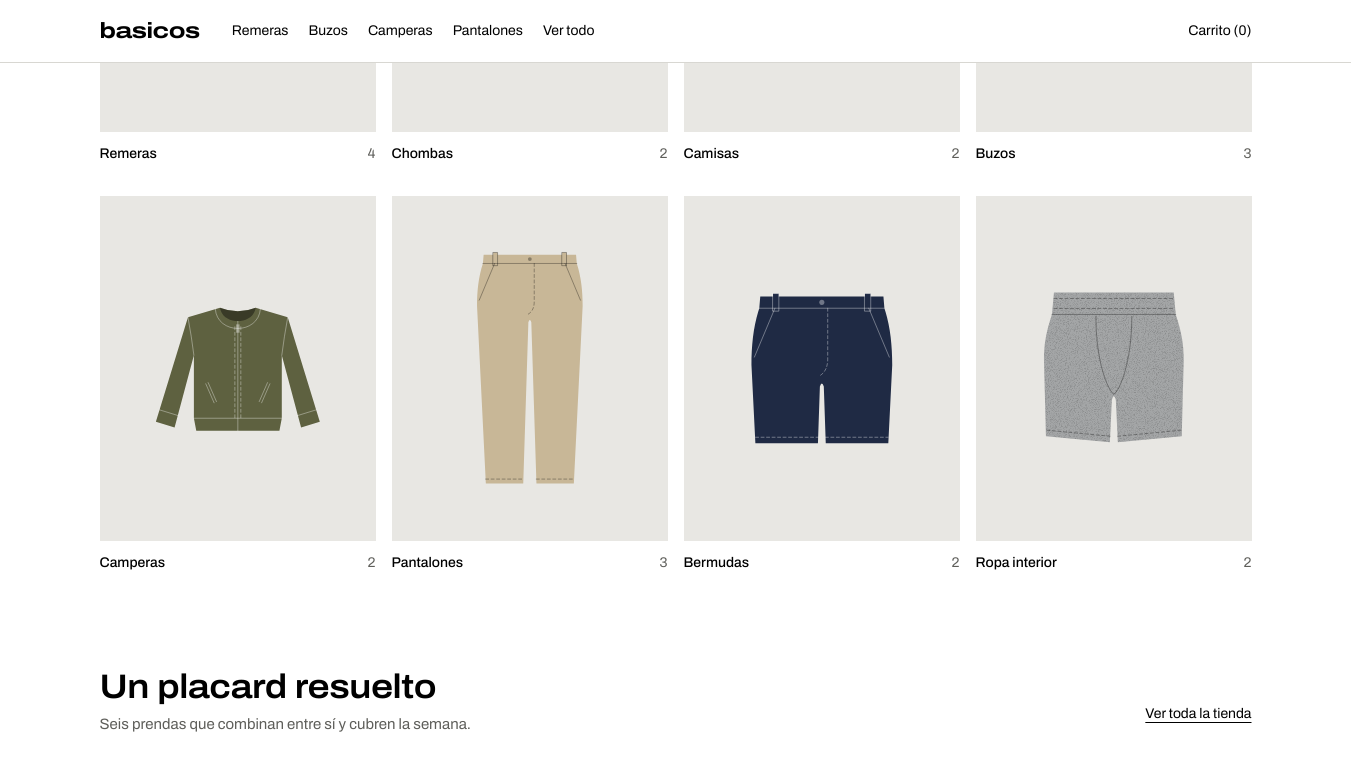
Test: portada › las categorías llevan al catálogo filtrado
(page scrolled)
Click the link "Bermudas 2": (822, 384) [684,196,960,573]
(page scrolled)
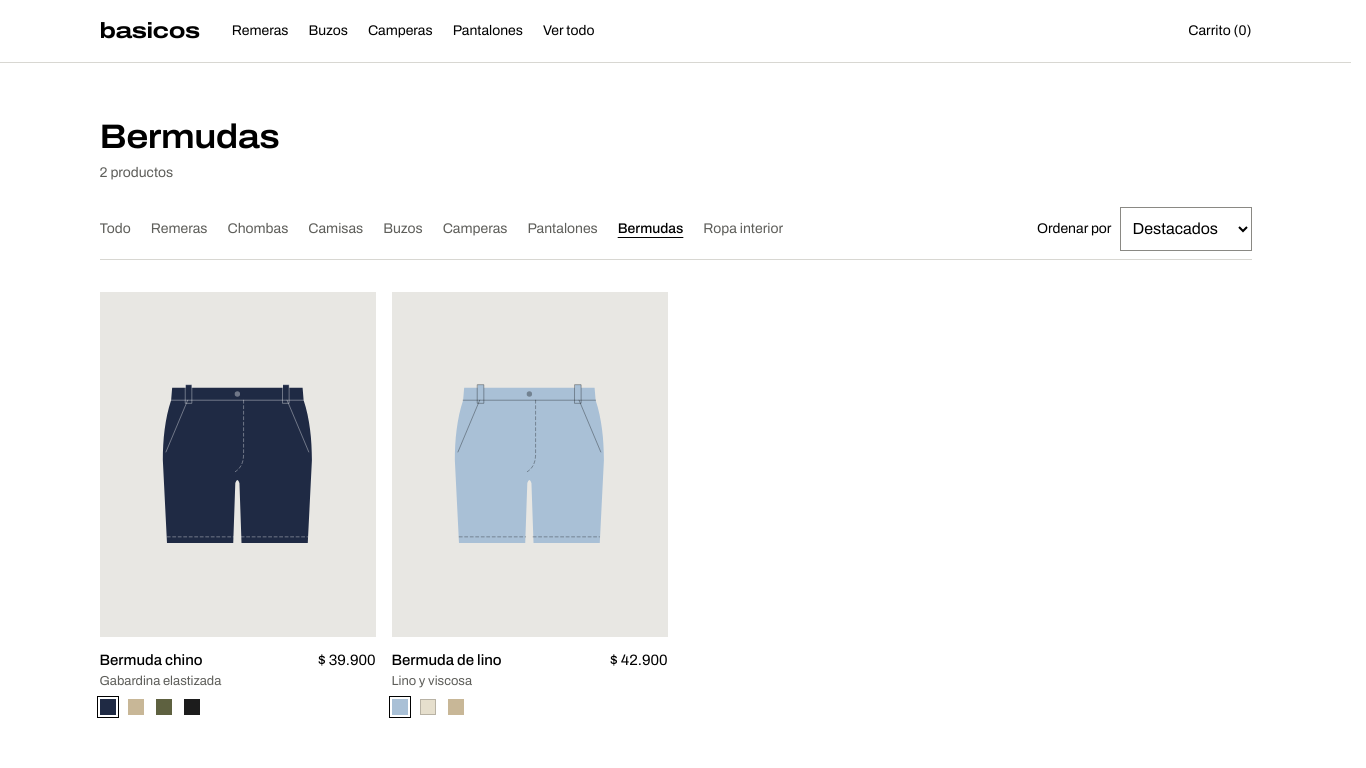
Expected: the heading "Bermudas" is shown, [100,118,279,155]
